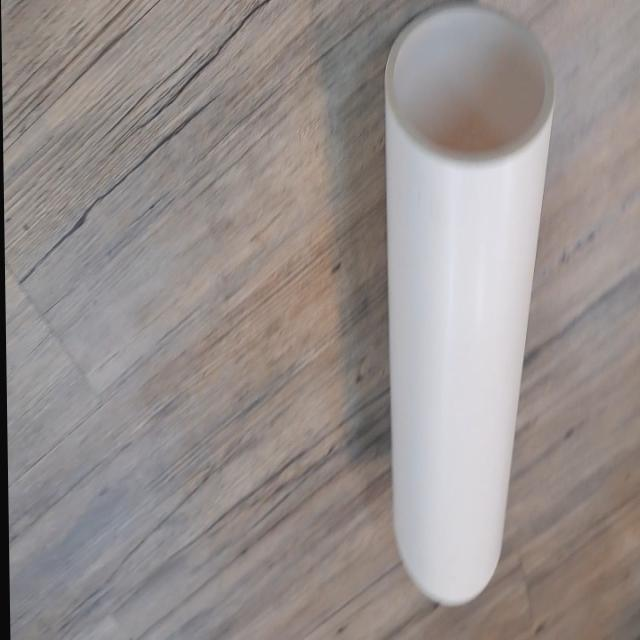CORAL: (367, 1, 570, 608)
